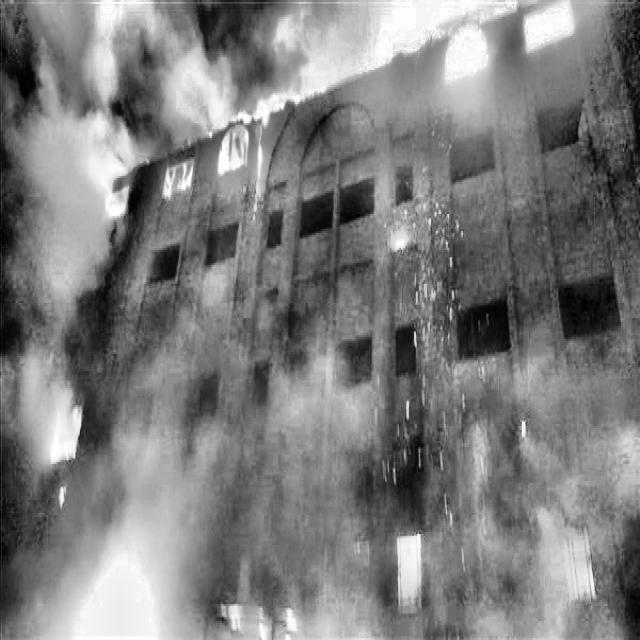fire: (2, 6, 301, 277), (306, 14, 616, 244), (45, 320, 142, 550)
